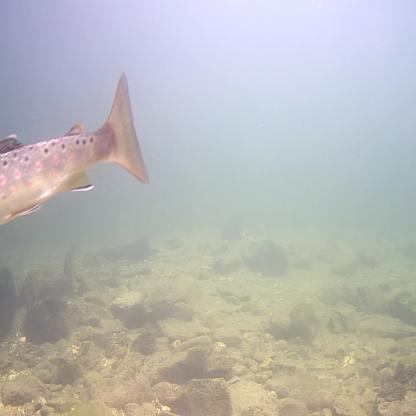salmon: (0, 68, 153, 229)
